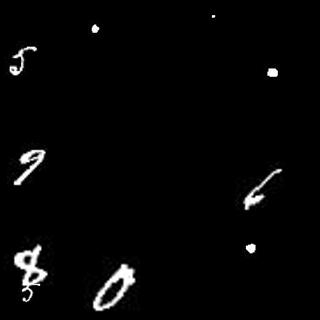dot: (241, 239, 265, 260), (262, 65, 281, 79), (88, 23, 101, 38), (207, 11, 218, 20)
eight: (14, 242, 48, 287)
five: (7, 42, 40, 80), (20, 283, 43, 305)
nine: (12, 150, 47, 187)
six: (242, 166, 283, 206)
zero: (91, 262, 134, 311)
